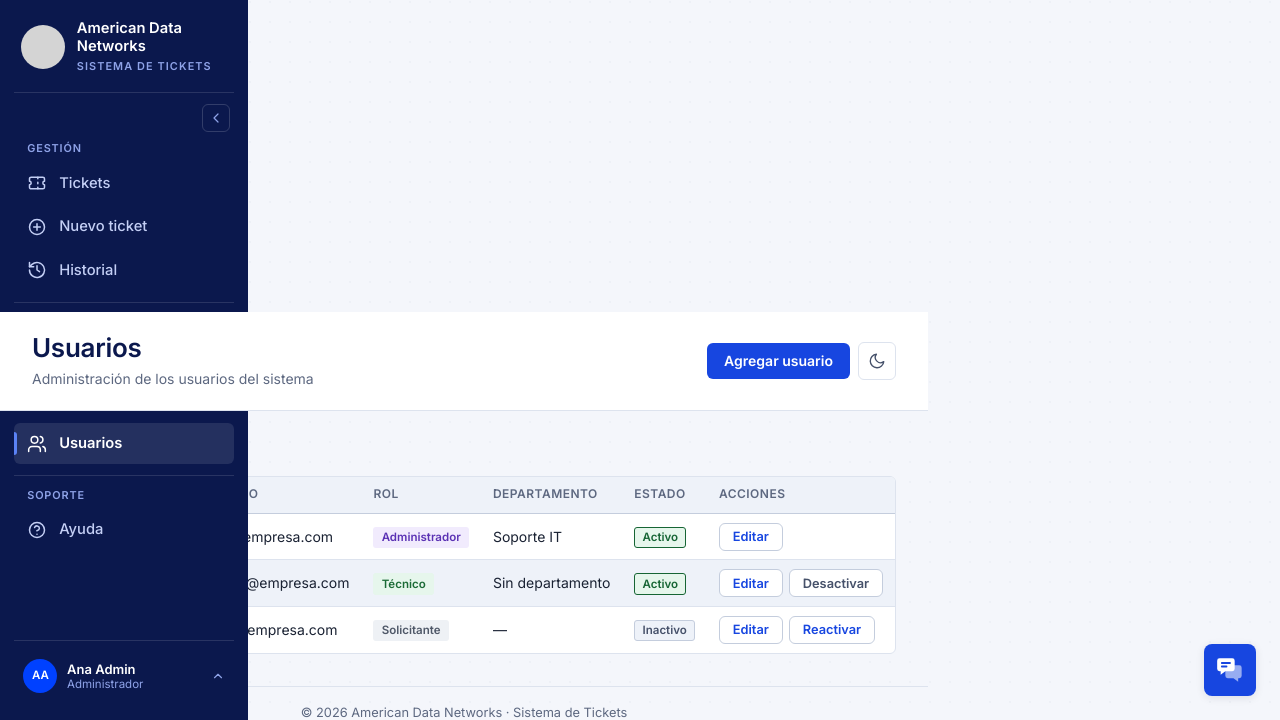
Test: Usuarios (/usuarios) › agregar: valida, el departamento solo para IT y sin contraseña sin LOGIN_LOCAL
The image size is (1280, 720).
(page scrolled)
Expected: the text "tomas@empresa.com" is shown, [194, 560, 362, 607]
Click the button "Agregar usuario" at coordinates (779, 361), box [707, 343, 850, 379]
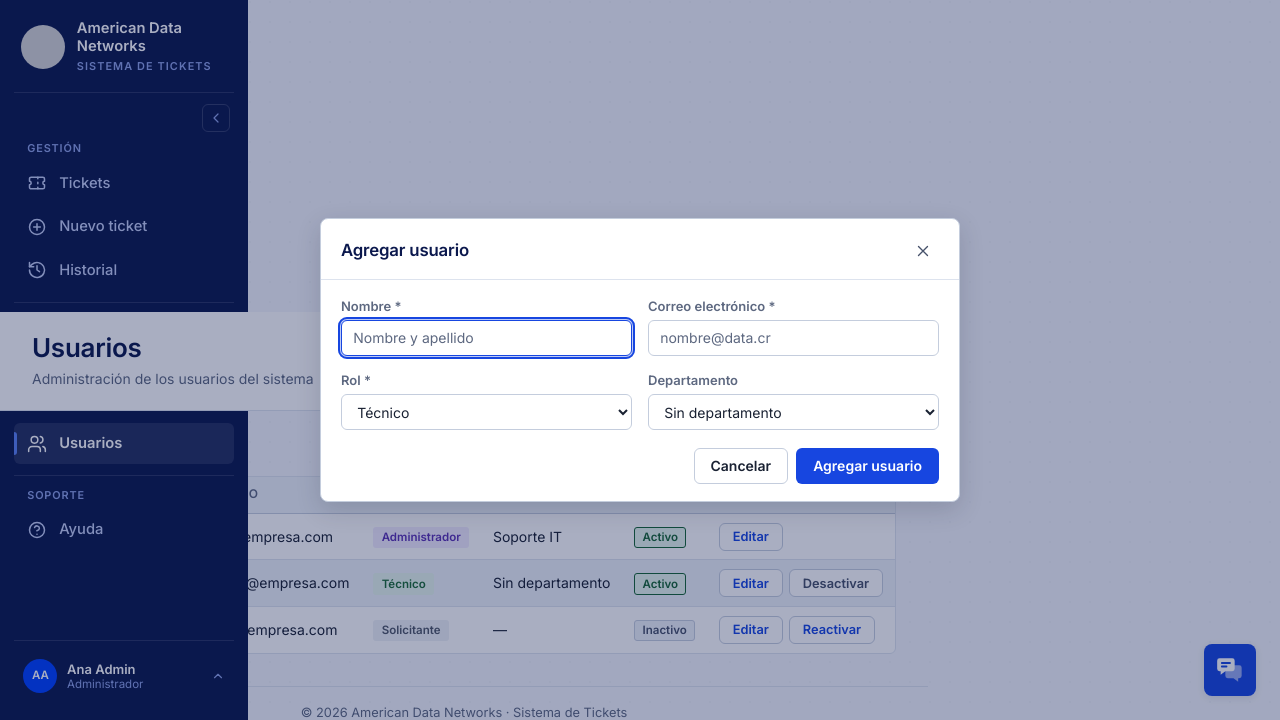
Click the button "Agregar usuario" at coordinates (868, 466), box [796, 448, 939, 484]
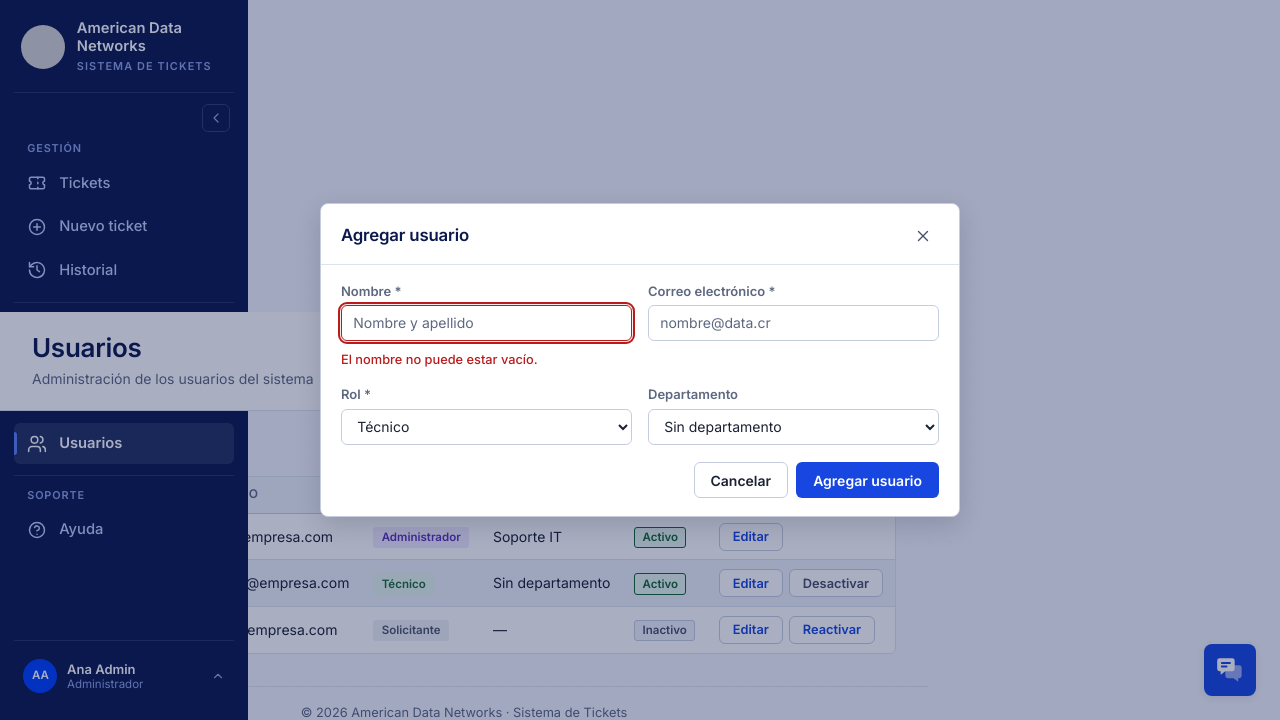
Expected: the message with id "error-nombre" reads "El nombre no puede estar vacío.", [341, 352, 538, 367]
Type "Nuevo Técnico" into the field with id "nombre" at coordinates (486, 323), box [341, 305, 632, 341]
Type "mal" into the field with id "email" at coordinates (794, 323), box [648, 305, 939, 341]
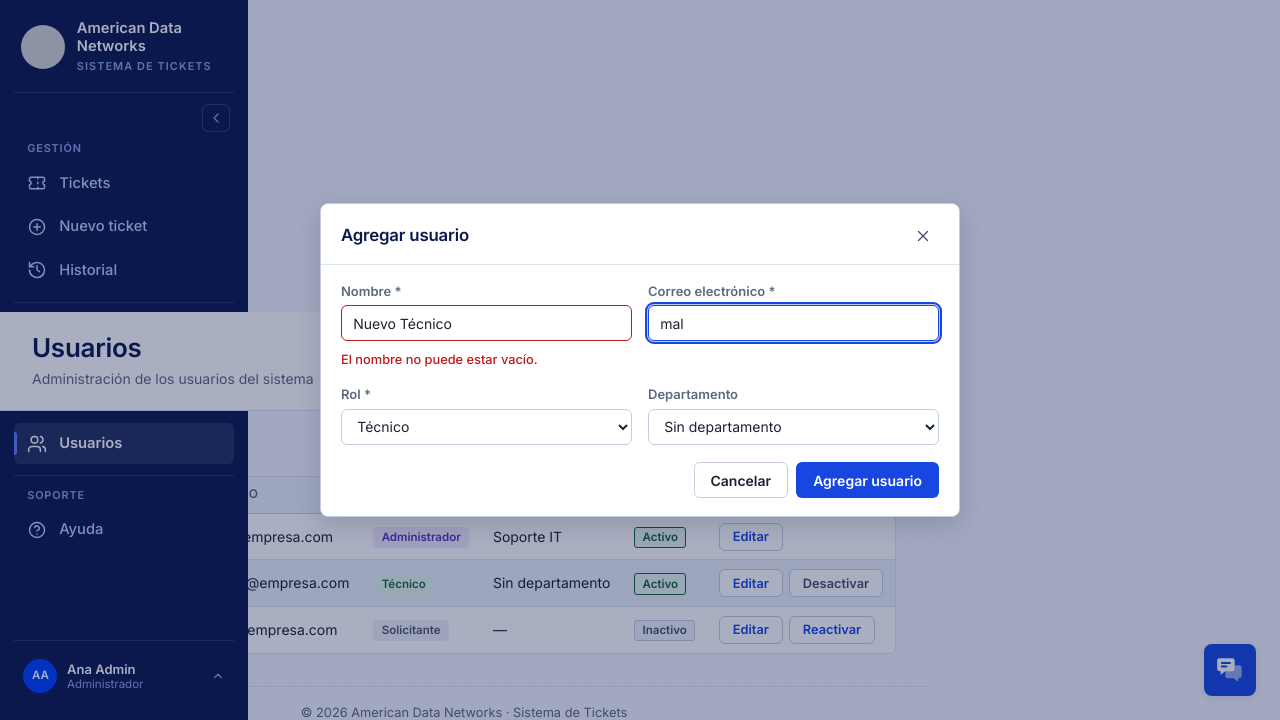
Click the button "Agregar usuario" at coordinates (868, 480), box [796, 462, 939, 498]
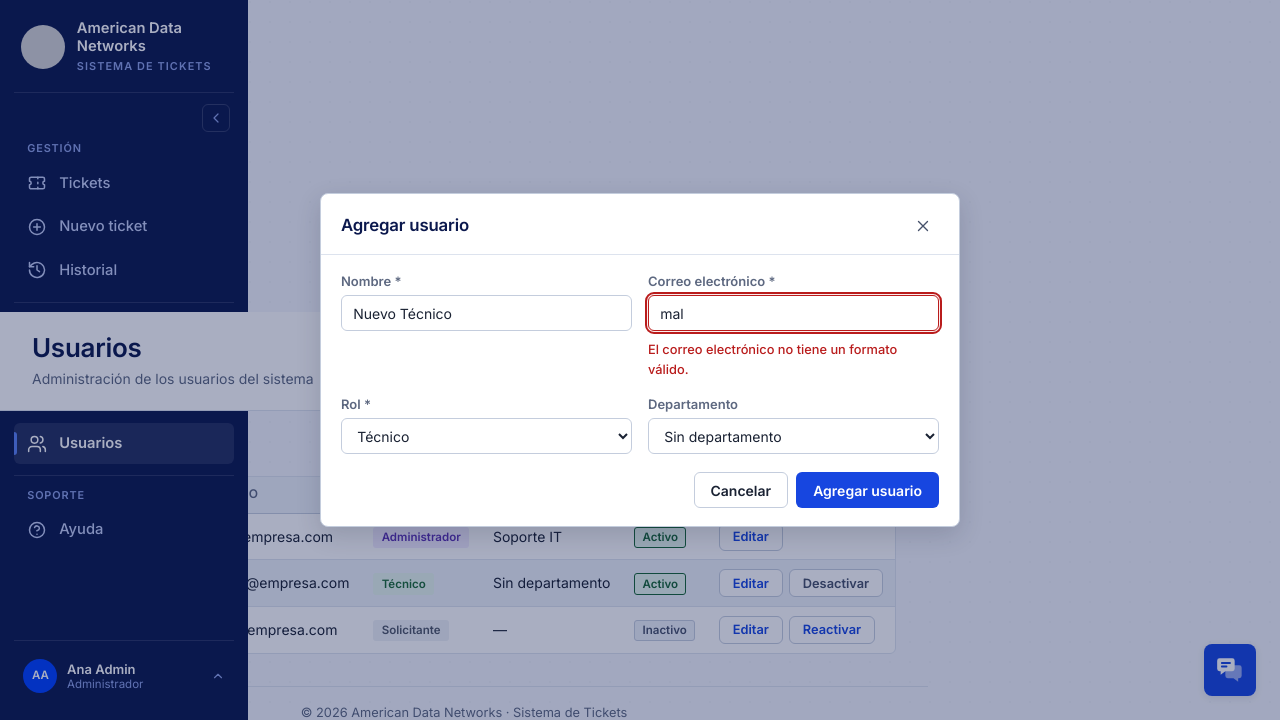
Expected: the message with id "error-email" reads "El correo electrónico no tiene un formato válido.", [648, 342, 897, 377]
Replace the text in the field with id "email" with "nuevo@empresa.com" at coordinates (794, 314), box [648, 296, 939, 332]
Select "Redes" in the dropdown labelled "Departamento" at coordinates (794, 436), box [648, 418, 939, 454]
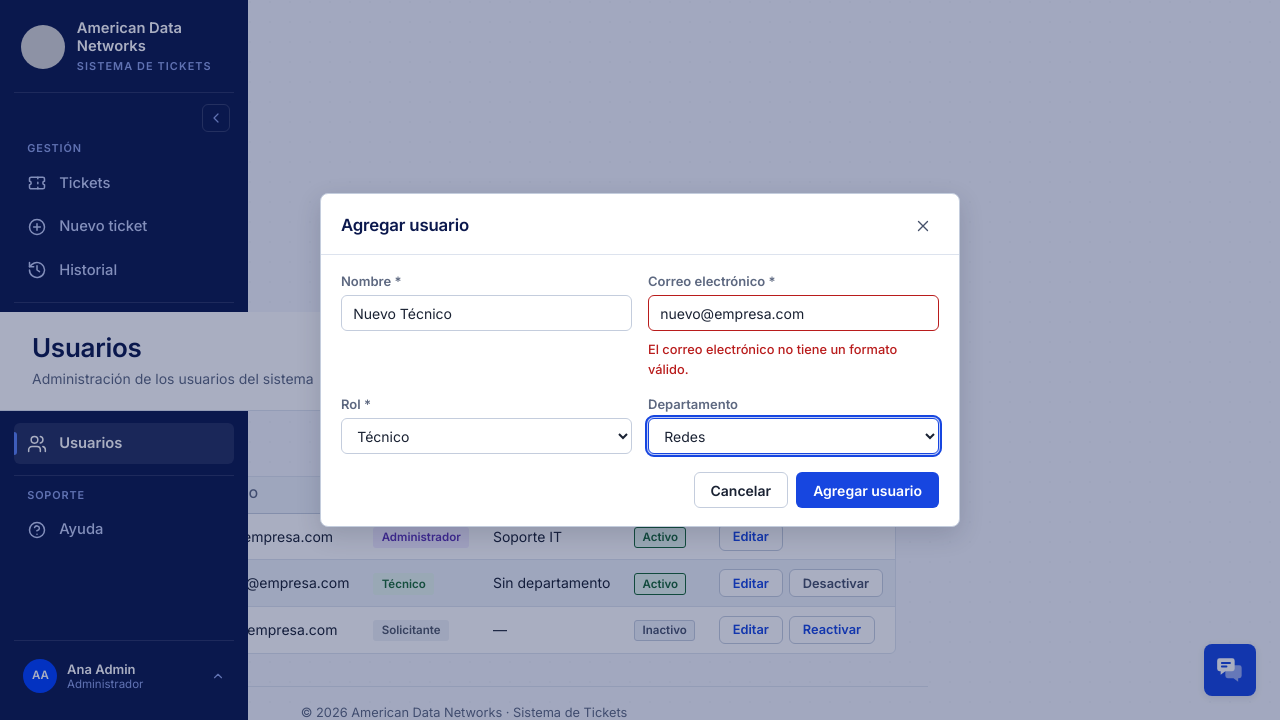
Click the button "Agregar usuario" at coordinates (868, 490), box [796, 472, 939, 508]
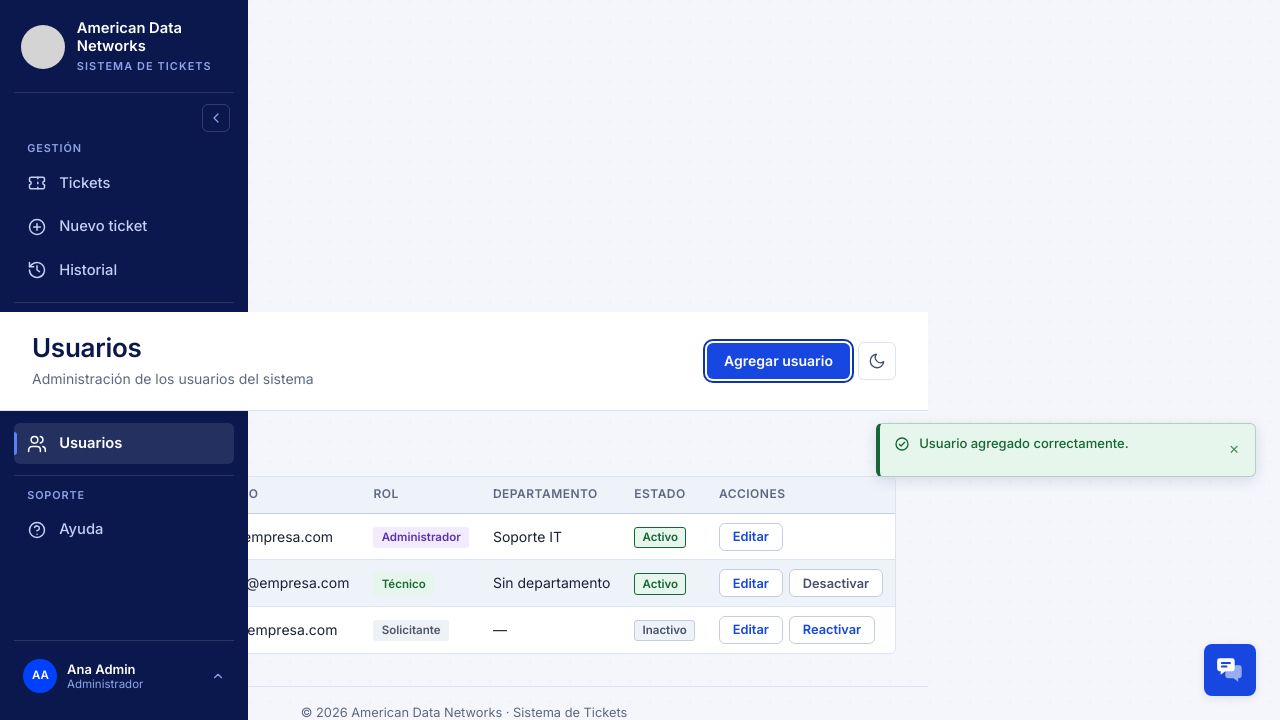
Expected: the text "Usuario agregado correctamente." is shown, [919, 435, 1129, 451]
